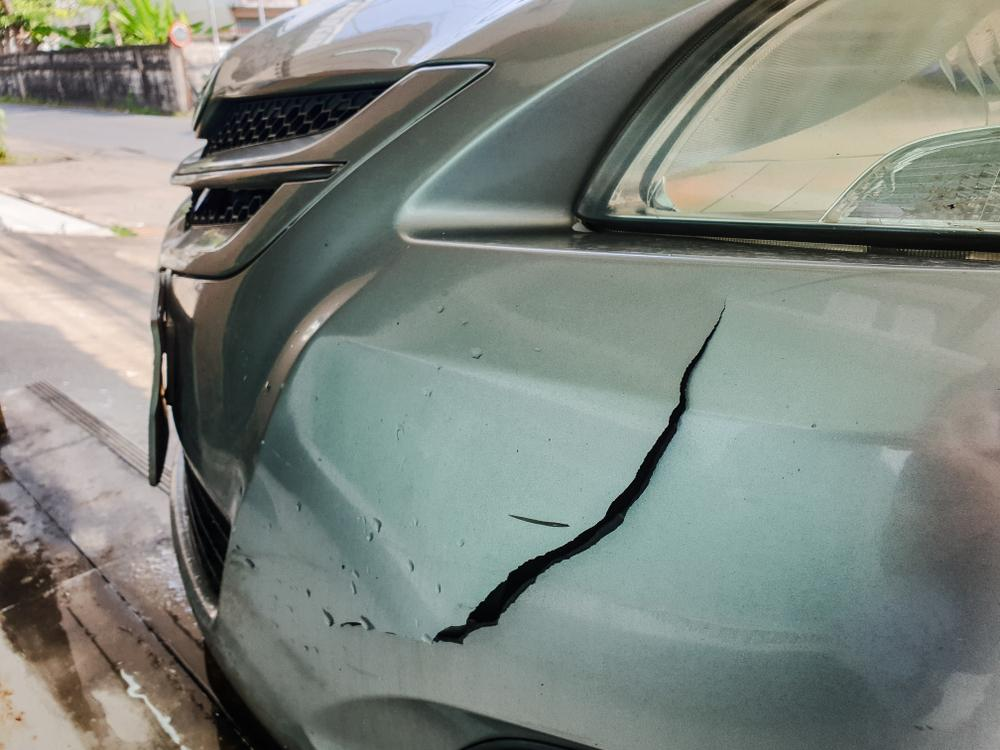crack: (428, 295, 729, 647)
